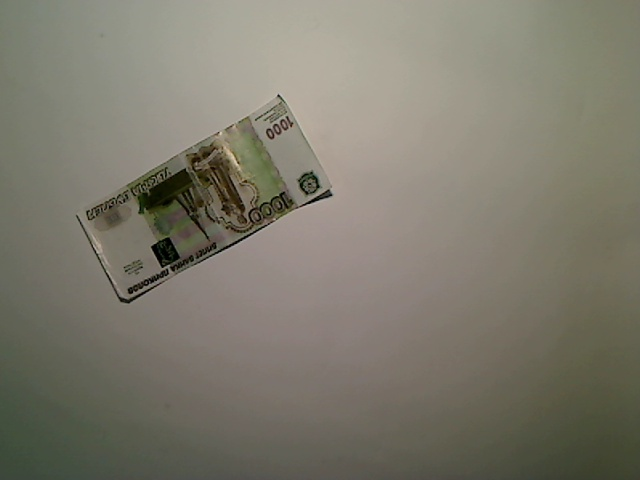banknotes: (69, 89, 336, 305)
